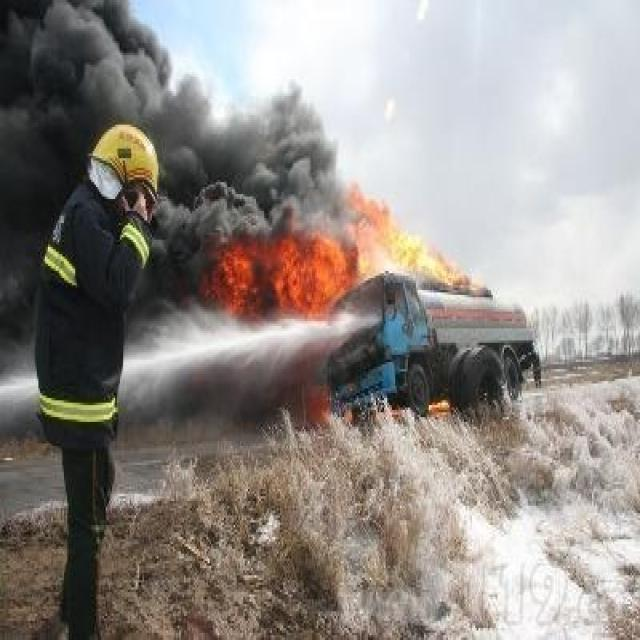Fire: (197, 182, 461, 321), (427, 398, 451, 415)
Smoke: (2, 2, 360, 379)
